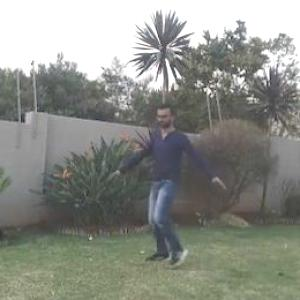land: (119, 78, 248, 291)
